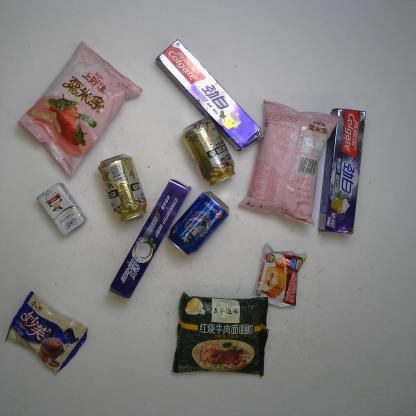Alcohol: (180, 115, 236, 186), (97, 150, 147, 224)
Dessert: (3, 290, 90, 374), (250, 241, 308, 310)
Drink: (166, 189, 232, 257)
Instant Noodles: (170, 291, 270, 379)
Milk: (35, 180, 88, 238)
Personal Hygiene: (155, 38, 265, 150), (106, 175, 194, 300), (316, 108, 369, 236)
Puffed Food: (15, 39, 144, 179), (238, 98, 342, 228)
